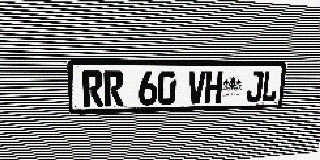0: (158, 71, 176, 105)
6: (139, 71, 158, 105)
H: (204, 71, 223, 104)
J: (246, 71, 264, 102)
L: (261, 71, 279, 102)
R: (82, 71, 104, 107), (103, 71, 124, 107)
V: (187, 71, 206, 104)
